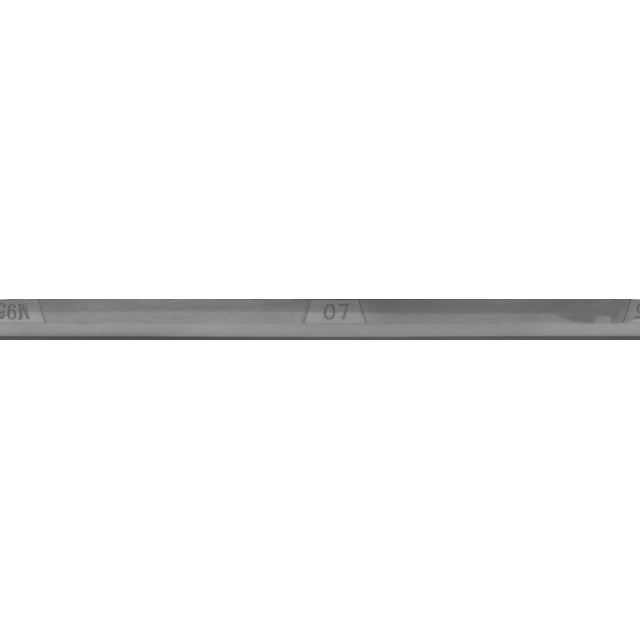mohao: (0, 270, 113, 370)
xuehao: (232, 270, 432, 370)
